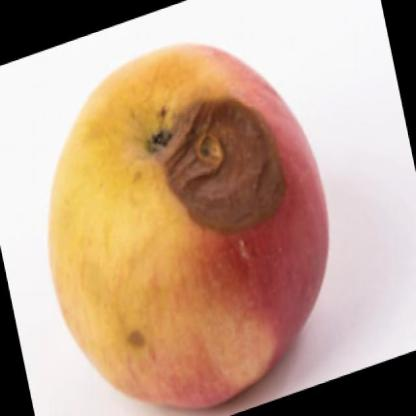defect: (161, 96, 291, 240)
